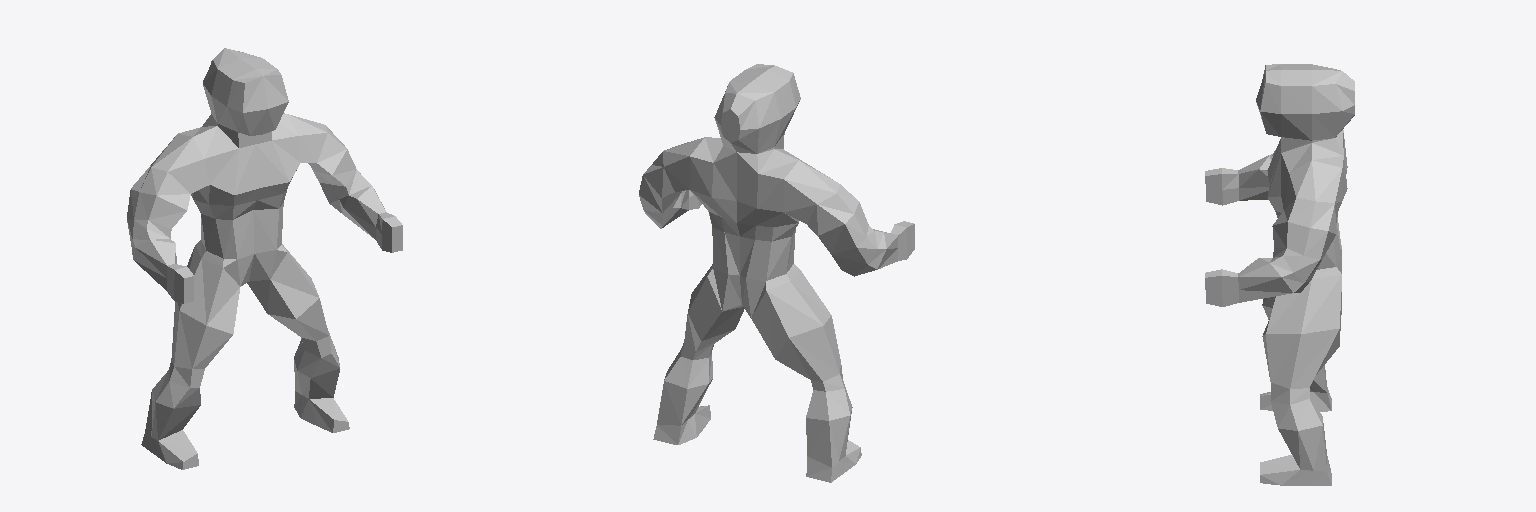
The model's file is figure.obj.
3 renders of one model, left to right at view 1: azimuth 30°, elevation 25°; view 2: azimuth 150°, elevation 25°; view 3: azimuth 270°, elevation 25°, orthographic.
Bounding box in the file's own units: 1.35 × 2.01 × 0.7298.